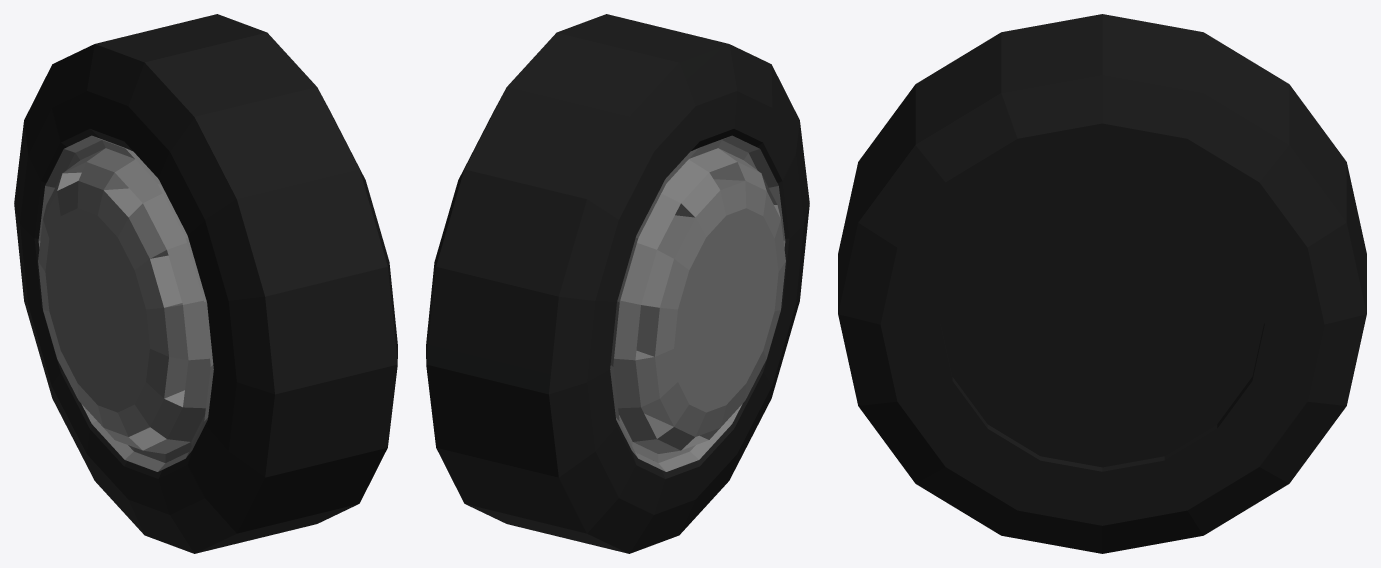
Rendered from WHEEL-RIGHT-1.fbx.
3 views of the same model, side by side, from view 1: azimuth 30°, elevation 25°; view 2: azimuth 150°, elevation 25°; view 3: azimuth 270°, elevation 25° (orthographic).
Parts seen in each view (by area): view 1: FR; view 2: FR; view 3: FR.
Part boxes in pixels (bbox=[...]): FR: bbox=[14, 14, 397, 553]; FR: bbox=[426, 14, 809, 553]; FR: bbox=[838, 14, 1366, 553].
Bounding box in the file's own units: 28.9 × 68.53 × 68.53.
